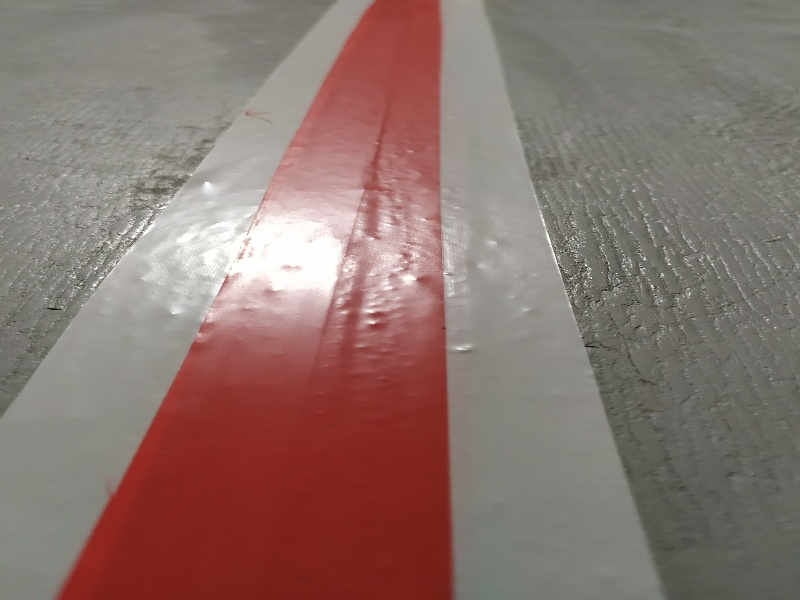reta: (1, 3, 673, 594)
